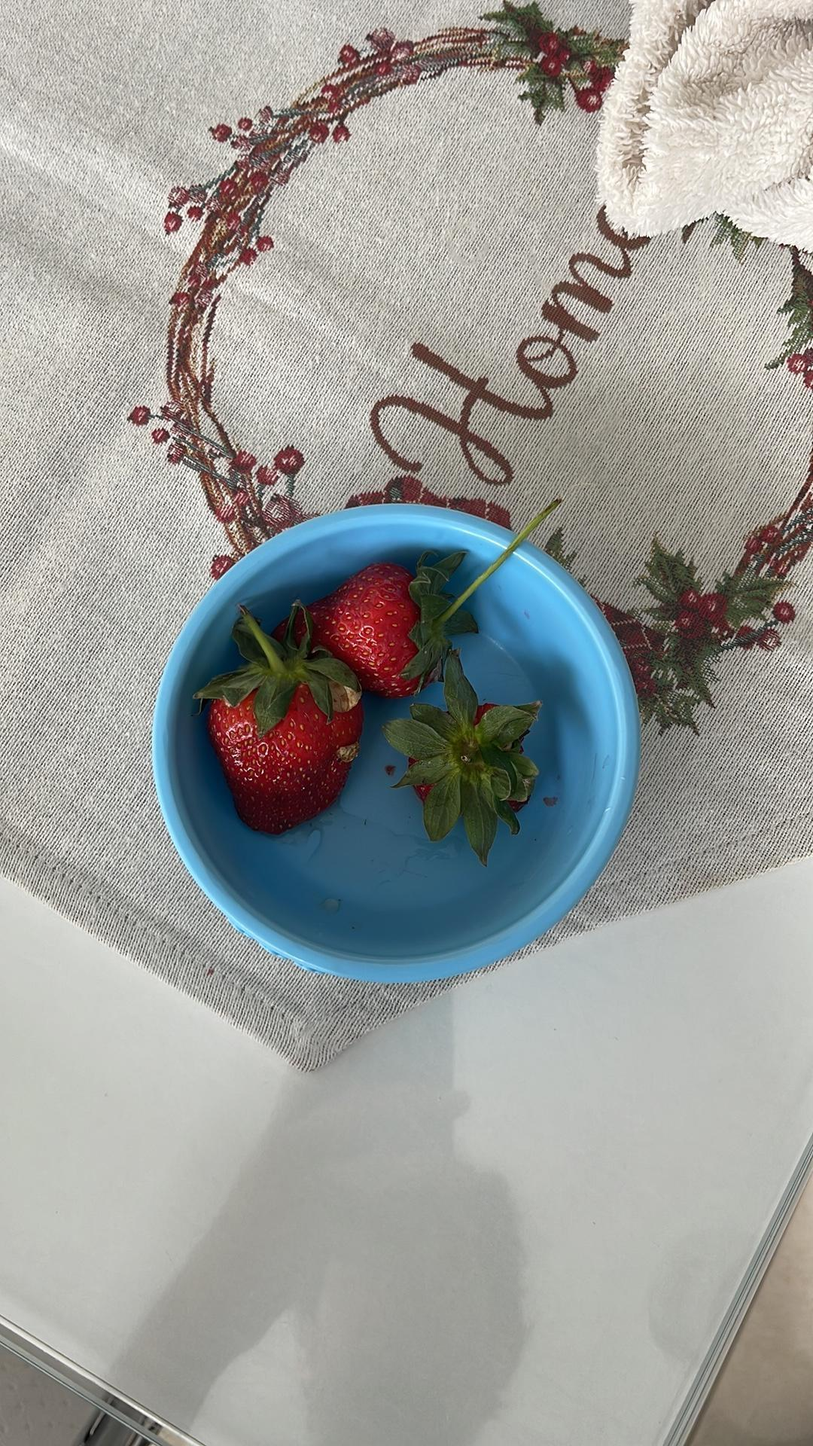strawberry: (213, 659, 356, 850), (282, 559, 455, 697), (397, 678, 518, 831)
